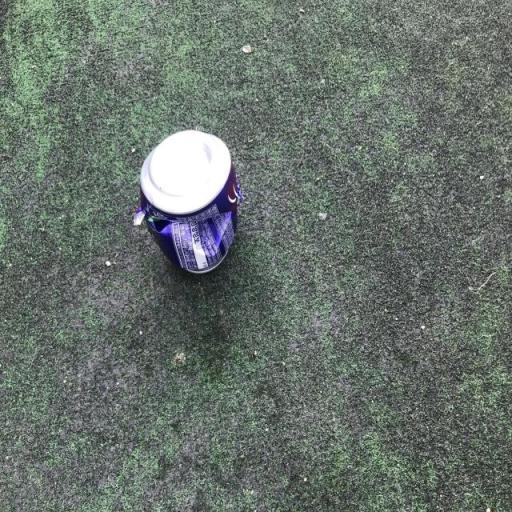metal: (124, 128, 270, 290)
